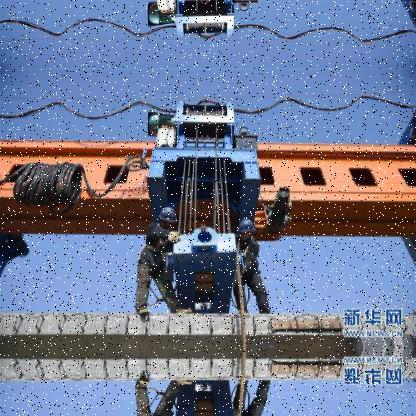Helmet: (154, 203, 182, 232), (235, 217, 264, 244)
